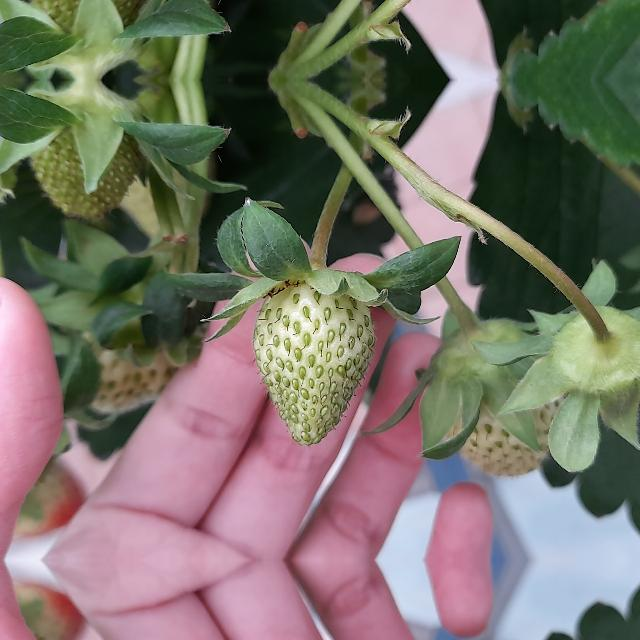Health_25: (253, 283, 374, 445)
